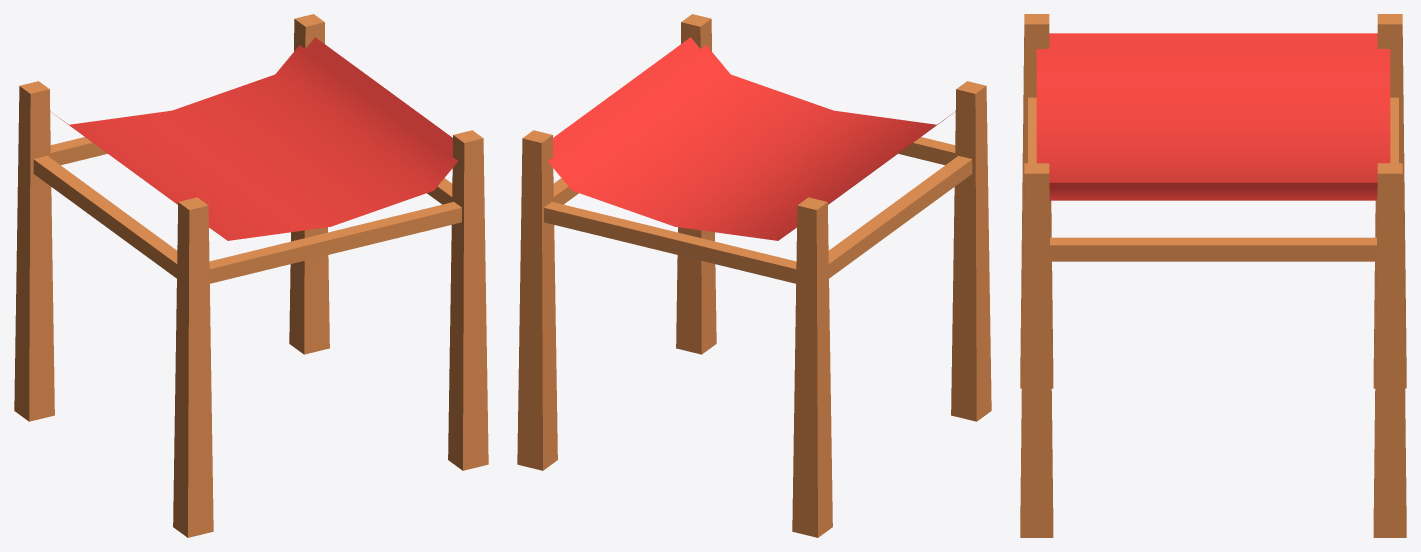
The model's file is structureCloth.fbx.
3 renders of one model, left to right at view 1: azimuth 30°, elevation 25°; view 2: azimuth 150°, elevation 25°; view 3: azimuth 270°, elevation 25°, orthographic. The views are drawn at different scales.
Visible parts, largest first — view 1: structureCloth; view 2: structureCloth; view 3: structureCloth.
Boxes of the visible parts, box(x1,y1,x2,y2) form: structureCloth: box(14, 14, 488, 537); structureCloth: box(517, 14, 991, 537); structureCloth: box(1020, 14, 1406, 537).
Size of the model in its own units: 5 by 5.17 by 5.
